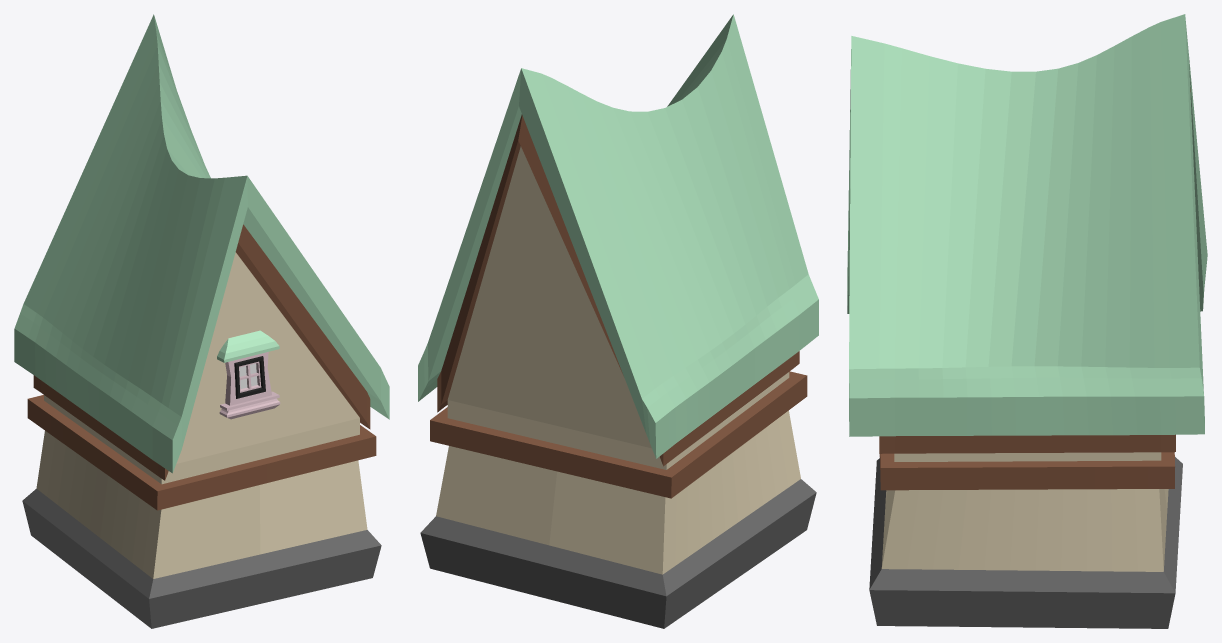
The model's file is HumanHouse1.fbx.
The picture shows the model from 3 angles, left to right: view 1: azimuth 30°, elevation 25°; view 2: azimuth 150°, elevation 25°; view 3: azimuth 270°, elevation 25°; orthographic projection. The views are drawn at different scales.
Visible parts, largest first — view 1: House1; view 2: House1; view 3: House1.
Part boxes in pixels (x1,y1,x2,y2): House1: [14, 14, 389, 628]; House1: [418, 14, 818, 628]; House1: [847, 14, 1207, 628].
Bounding box in the file's own units: 502 × 994 × 576.
